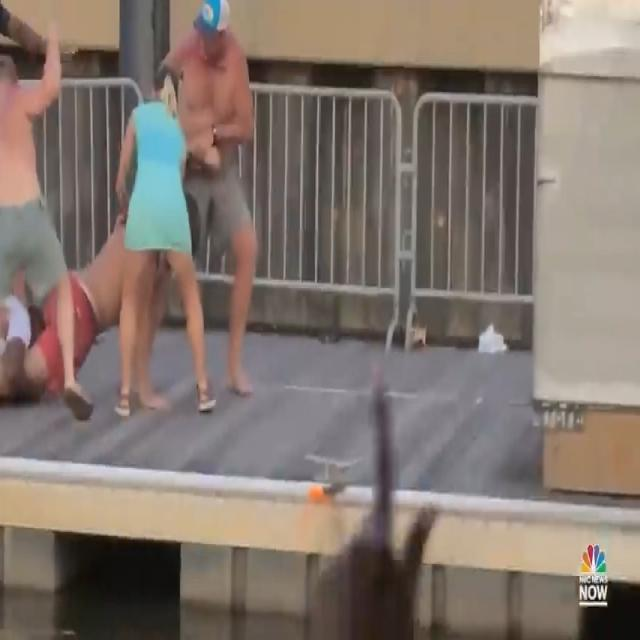fight: (1, 0, 279, 424)
